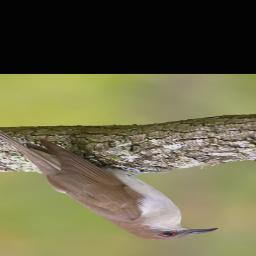Cuckoo: (0, 102, 222, 241)
